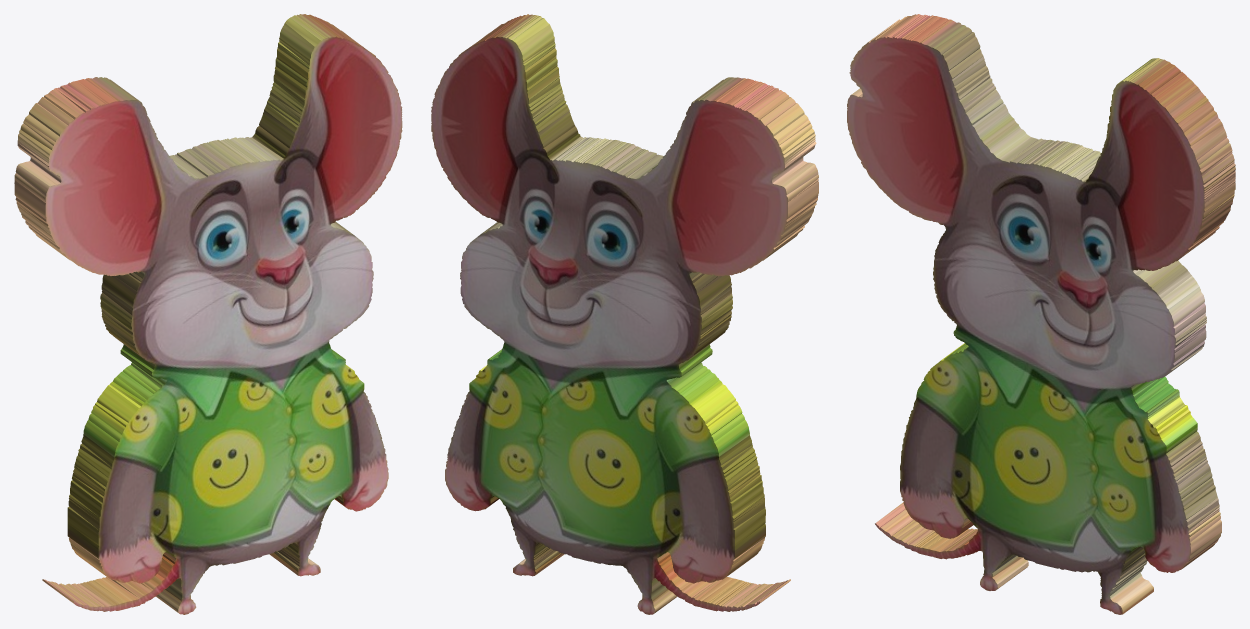
Rendered from wikirat.glb.
3 views of the same model, side by side, from view 1: azimuth 30°, elevation 25°; view 2: azimuth 150°, elevation 25°; view 3: azimuth 330°, elevation 25° (orthographic).
Visible parts, largest first — view 1: rat; view 2: rat; view 3: rat.
Boxes of the visible parts, bbox=[...] form: rat: bbox=[14, 14, 402, 614]; rat: bbox=[431, 14, 818, 614]; rat: bbox=[847, 14, 1235, 614].
Bounding box in the file's own units: 0.6569 × 0.9538 × 0.0986.
Materials: 1 (1 with a texture image).
